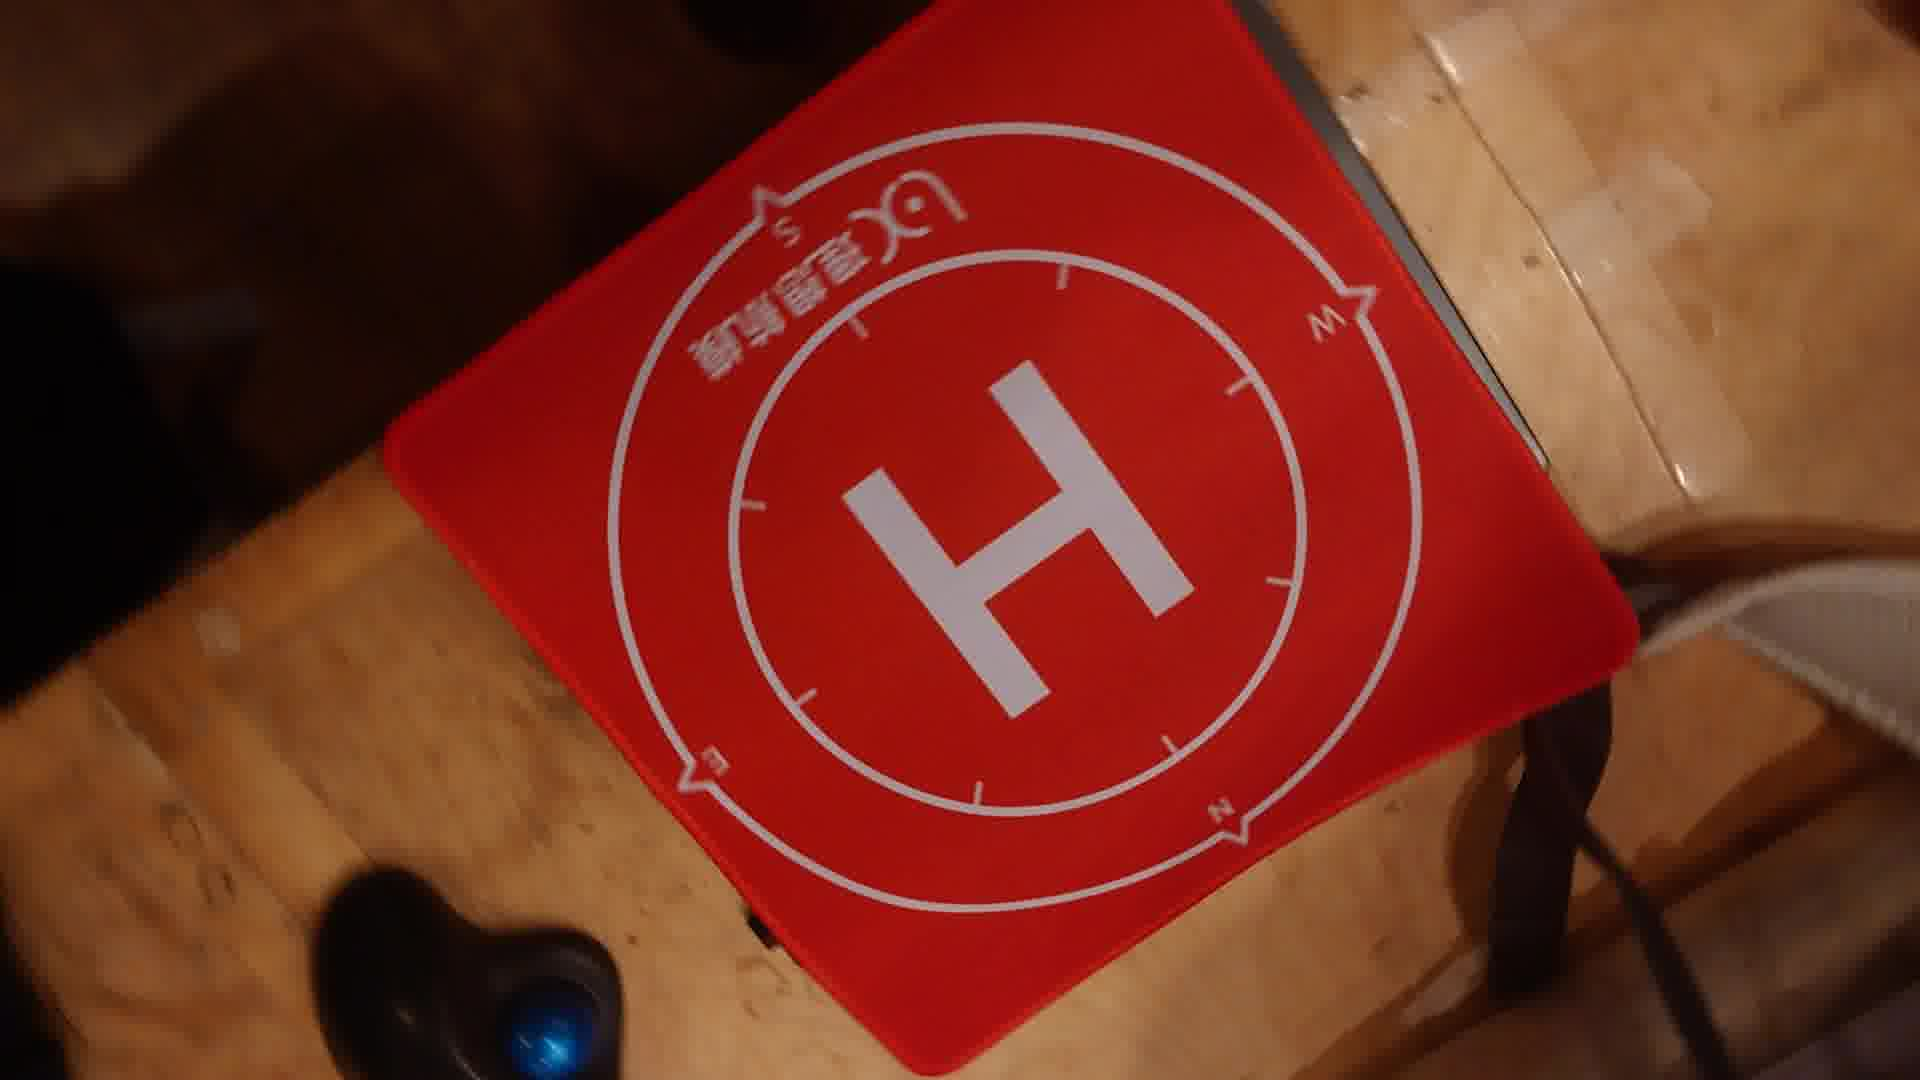H: (845, 357, 1199, 725)
